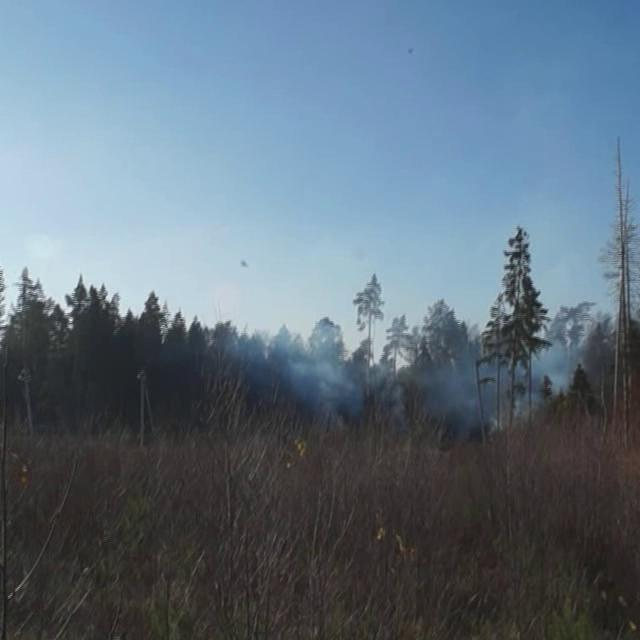Smoke: (236, 309, 602, 449)
